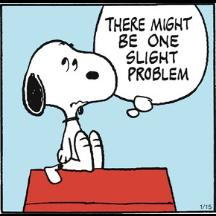snoopy: (22, 38, 120, 184)
